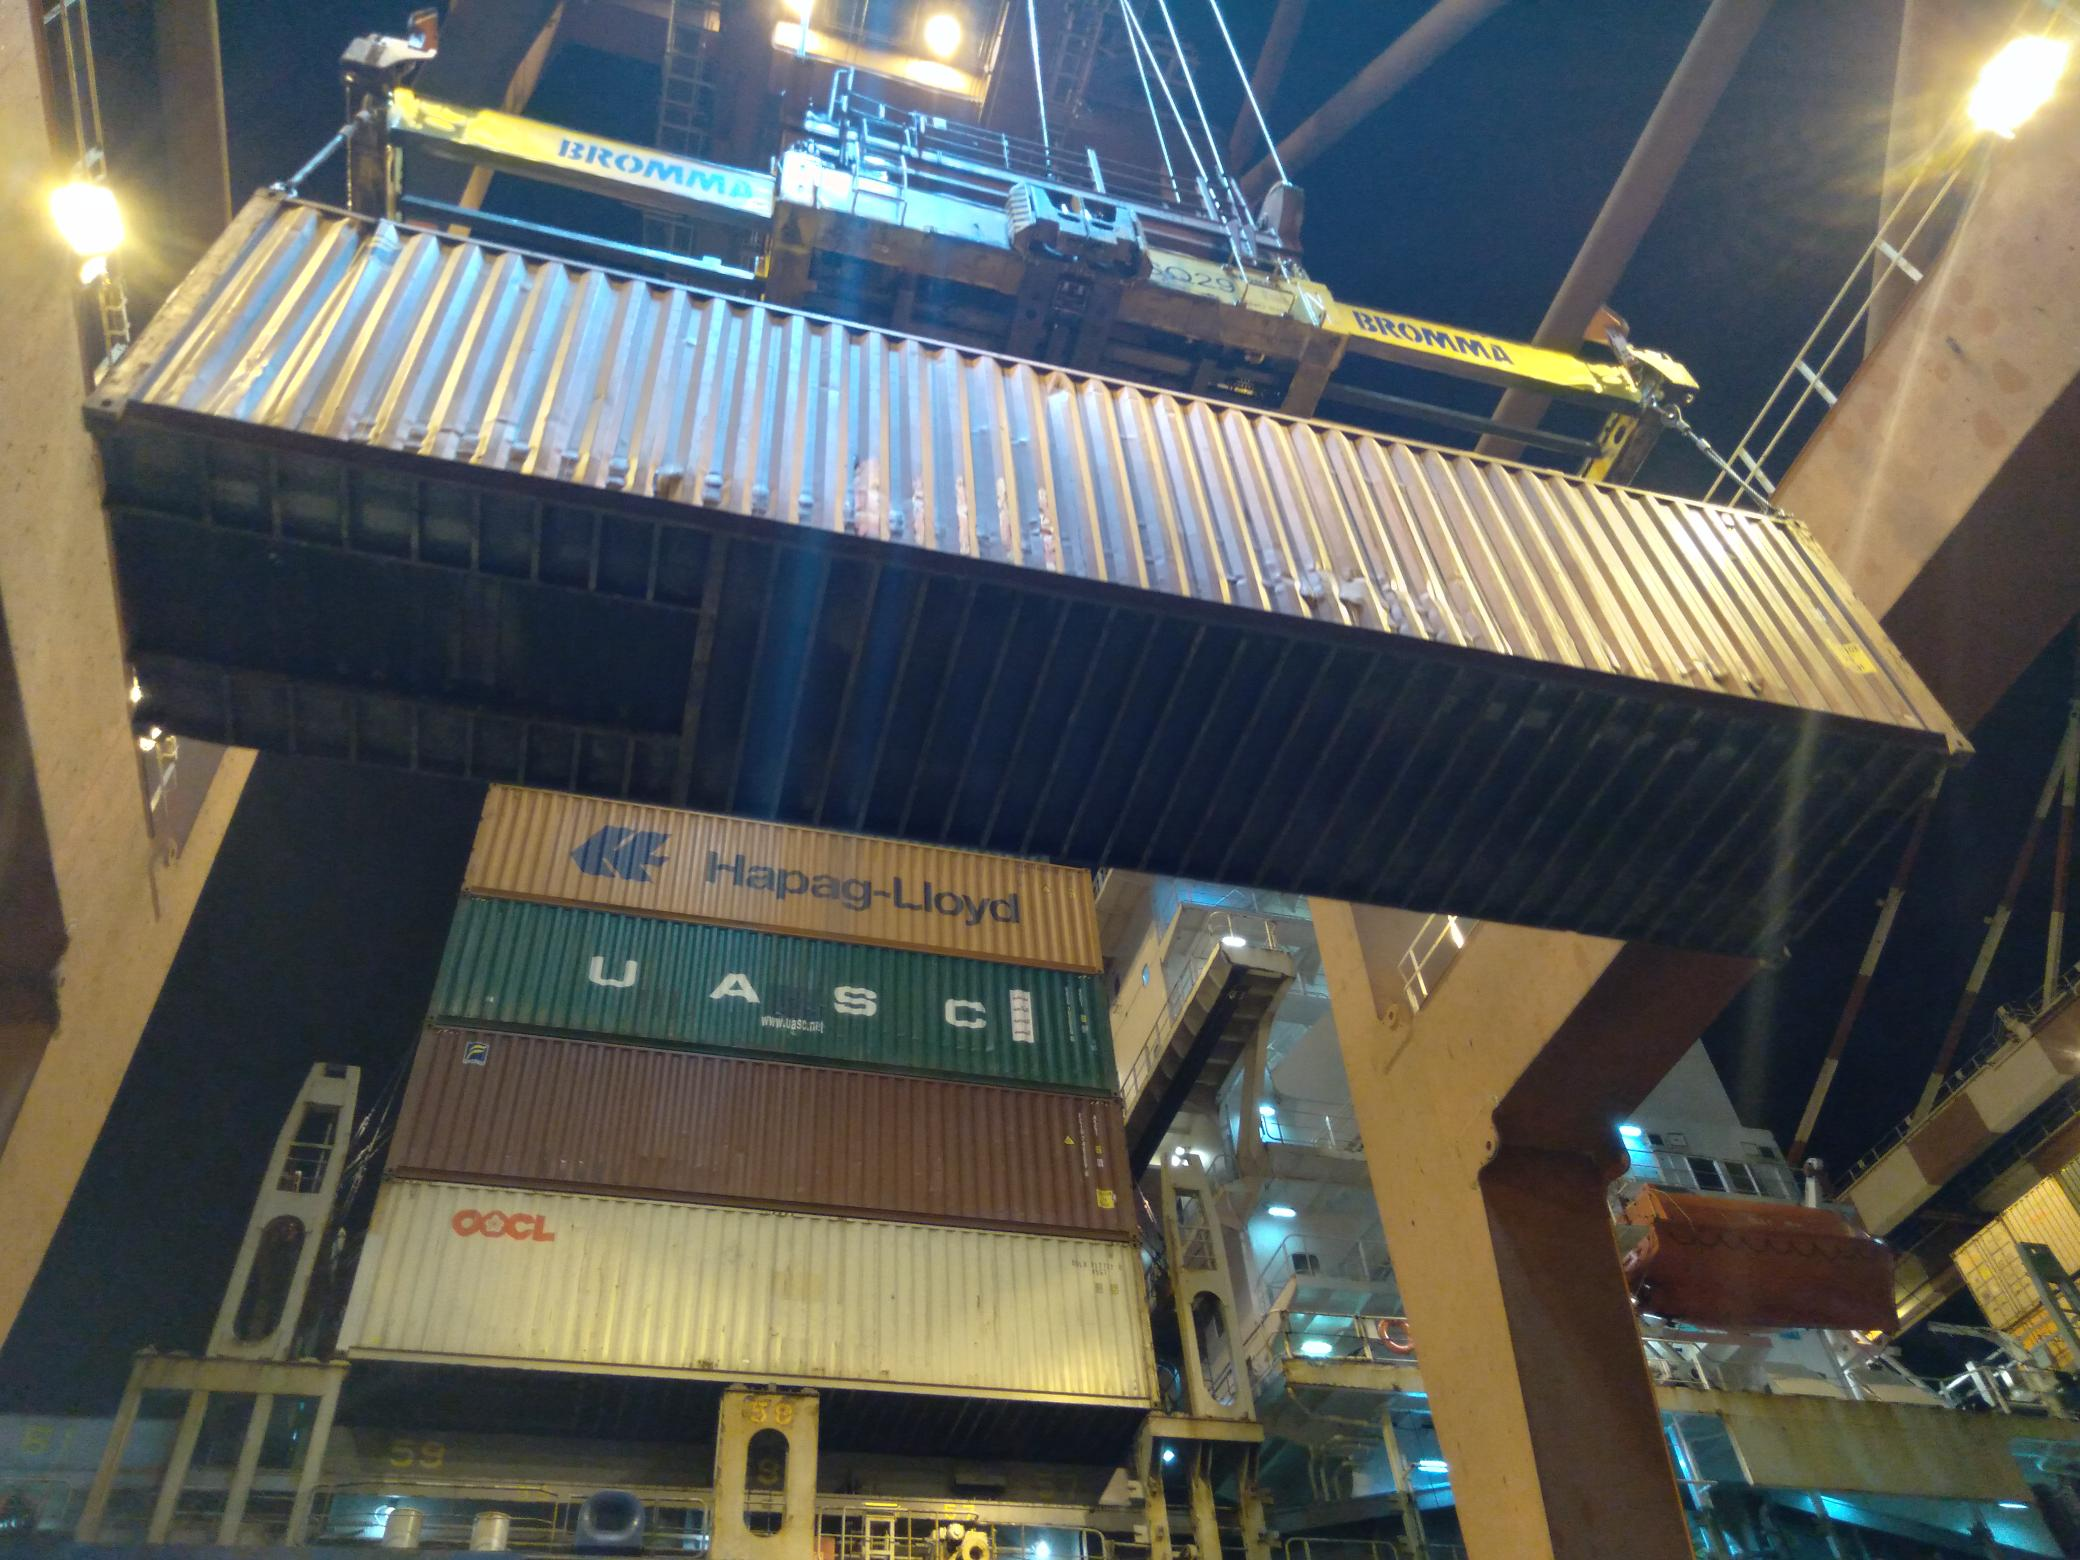bulged: (413, 423, 1048, 565)
dented: (1223, 551, 1464, 637)
